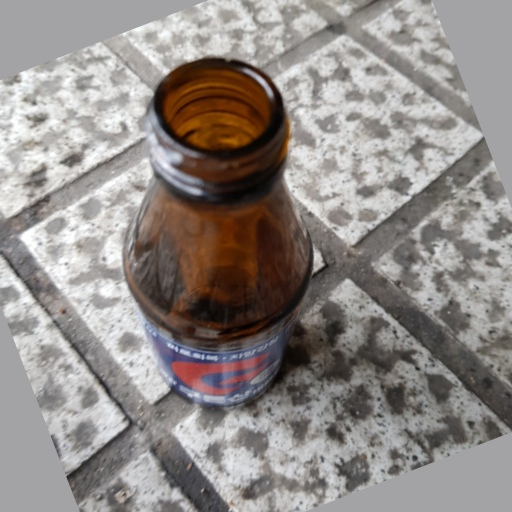Glass_3: (125, 55, 314, 409)
